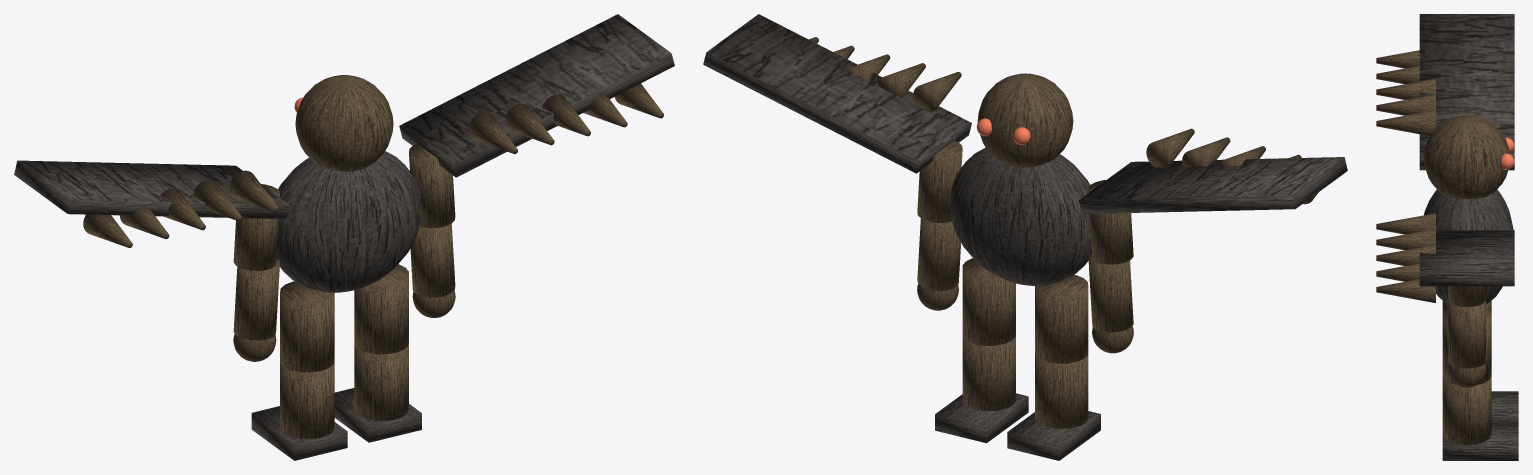
File: tengu.glb
3 views of the same model, side by side, from view 1: azimuth 30°, elevation 25°; view 2: azimuth 150°, elevation 25°; view 3: azimuth 270°, elevation 25° (orthographic). The views are drawn at different scales.
Parts seen in each view (by area): view 1: Torso, Wing.001, Wing, Head, ThighL, ThighR, ShinL, ShinR, ForearmL, ForearmR, UpperArmR, FootL (+14 smaller); view 2: Wing.001, Torso, Wing, Head, ThighL, ThighR, ShinL, ShinR, ForearmL, ForearmR, FootL, FootR (+8 smaller); view 3: Wing, Head, Wing.001, Torso, ShinR, ForearmR, FootR, ThighR, Feather, FootL, Feather.009, Feather.005 (+10 smaller).
Part boxes in pixels (x1,y1,x2,y2): Torso: [276, 151, 421, 292]; Wing.001: [399, 14, 674, 177]; Wing: [14, 160, 289, 219]; Head: [295, 75, 393, 171]; ThighL: [280, 281, 334, 372]; ThighR: [354, 264, 408, 354]; ShinL: [280, 361, 334, 439]; ShinR: [354, 343, 408, 420]; ForearmL: [233, 259, 279, 340]; ForearmR: [410, 224, 455, 297]; UpperArmR: [409, 144, 455, 228]; FootL: [251, 406, 347, 460]; Wing.001: [703, 14, 971, 173]; Torso: [950, 147, 1091, 285]; Wing: [1079, 157, 1347, 213]; Head: [977, 73, 1073, 167]; ThighL: [1035, 274, 1088, 363]; ThighR: [962, 258, 1015, 345]; ShinL: [1035, 352, 1088, 428]; ShinR: [962, 335, 1015, 410]; ForearmL: [1088, 253, 1133, 332]; ForearmR: [917, 218, 960, 290]; FootL: [1007, 411, 1100, 460]; FootR: [935, 393, 1028, 443]; Wing: [1419, 14, 1514, 170]; Head: [1423, 115, 1509, 199]; Wing.001: [1419, 230, 1514, 286]; Torso: [1424, 189, 1513, 304]; ShinR: [1442, 376, 1491, 444]; ForearmR: [1448, 301, 1485, 368]; FootR: [1442, 423, 1518, 460]; ThighR: [1442, 308, 1491, 384]; Feather: [1376, 110, 1435, 135]; FootL: [1491, 391, 1518, 423]; Feather.009: [1376, 279, 1435, 302]; Feather.005: [1376, 213, 1435, 234].
Bounding box in the file's own units: 1.79 × 1 × 0.4102.
Materials: 5 (4 with a texture image).
